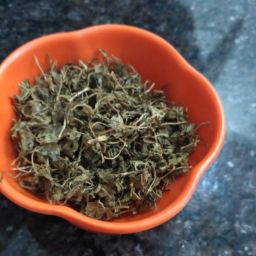Fenugeek (dried): (28, 111, 176, 210), (116, 67, 195, 210), (28, 57, 170, 113), (14, 72, 69, 205), (84, 76, 134, 221)
